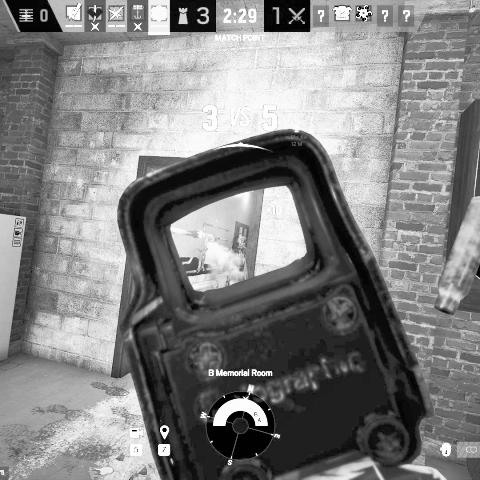Character: (238, 236, 247, 258)
